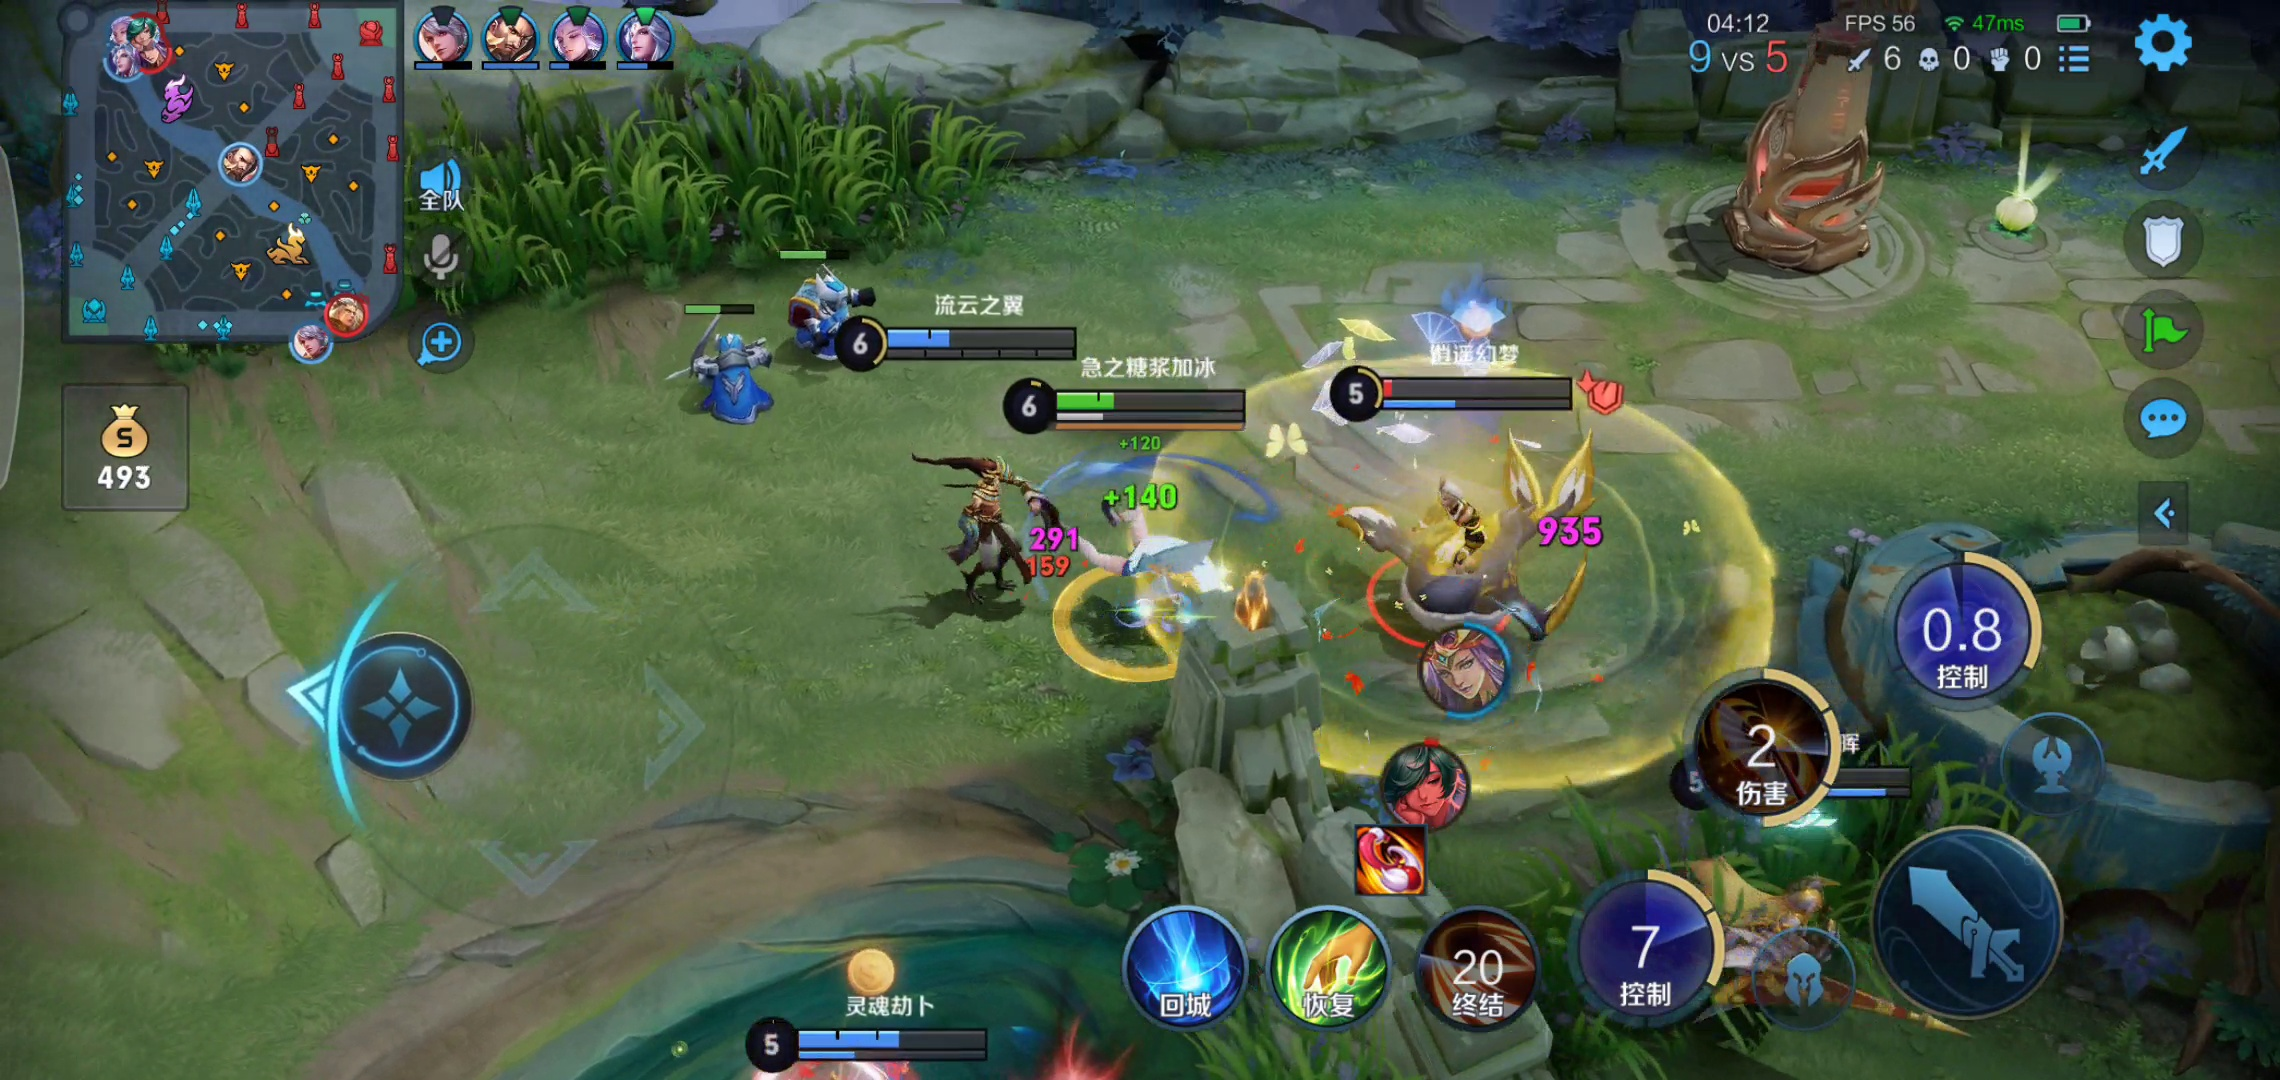grass: (412, 94, 1038, 256)
hero: (1342, 467, 1611, 677), (1099, 493, 1251, 672), (1703, 853, 1852, 1031), (916, 435, 1064, 605)
soldier: (663, 323, 782, 438), (781, 270, 875, 374)
tower: (1704, 1, 1906, 282)
